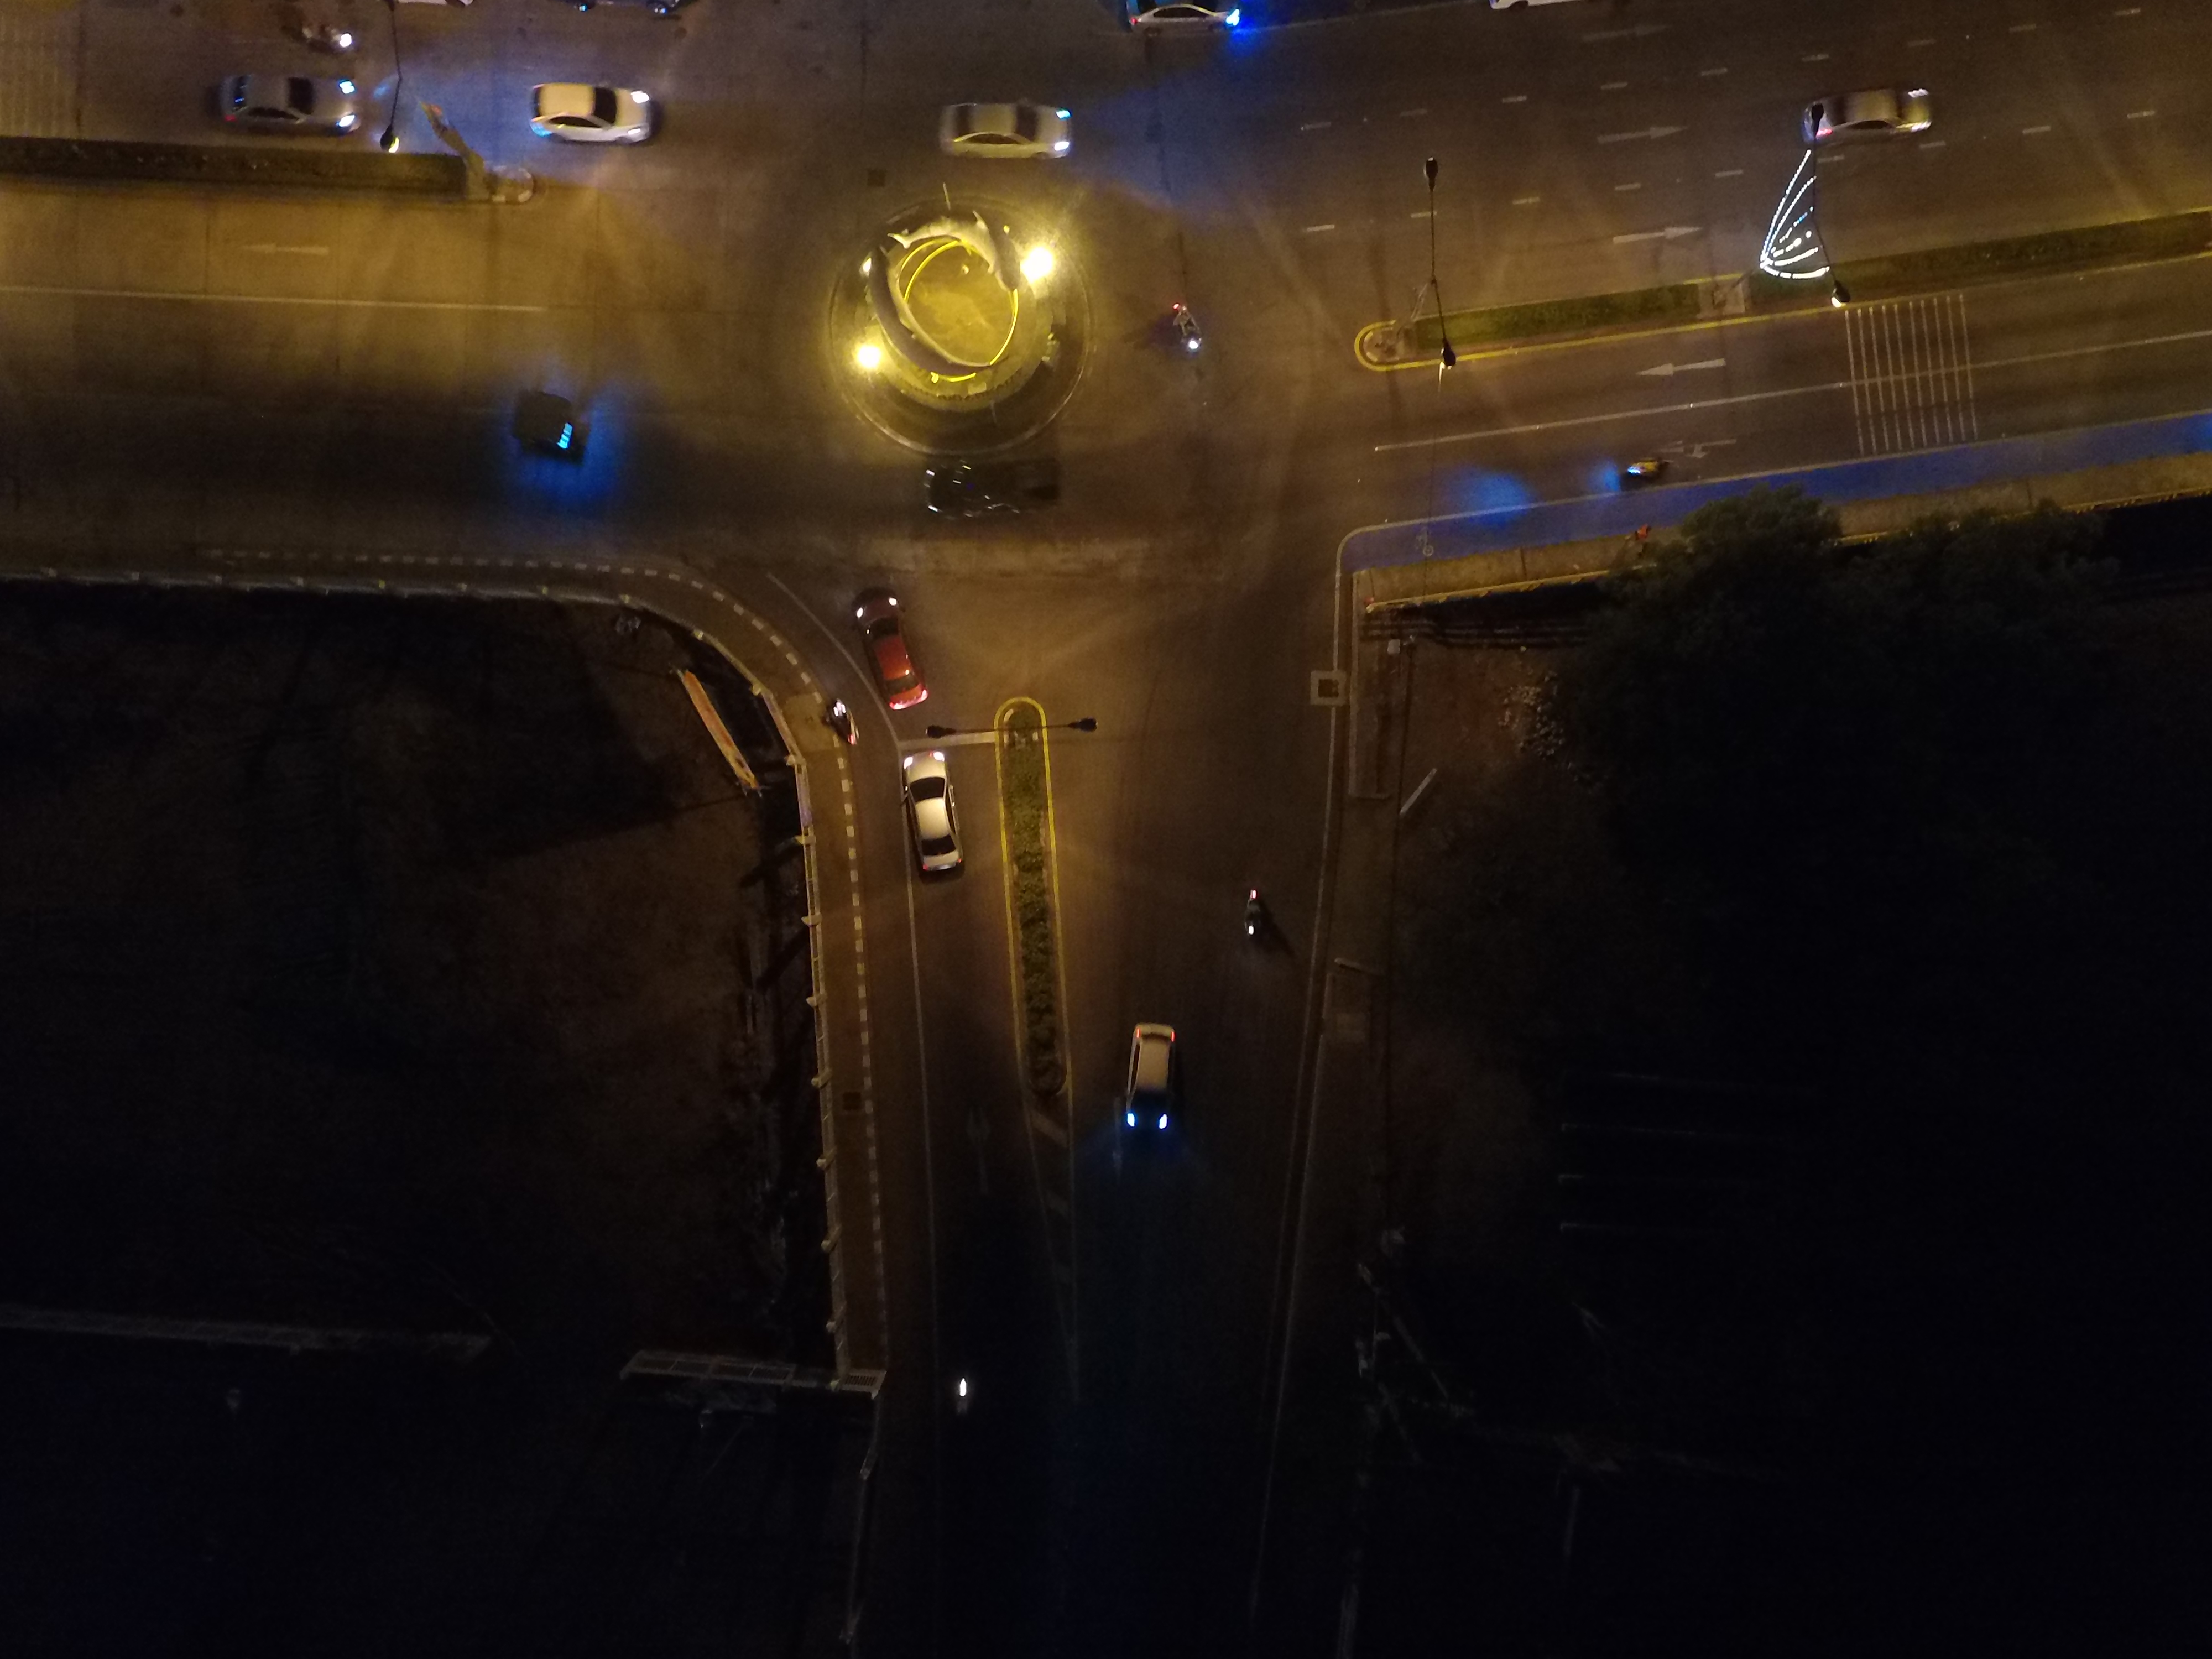car: (838, 577, 942, 728), (878, 734, 982, 885), (1090, 993, 1195, 1145), (197, 70, 385, 150), (1763, 75, 1951, 155), (904, 92, 1092, 173), (486, 73, 674, 152), (1101, 0, 1259, 47)
